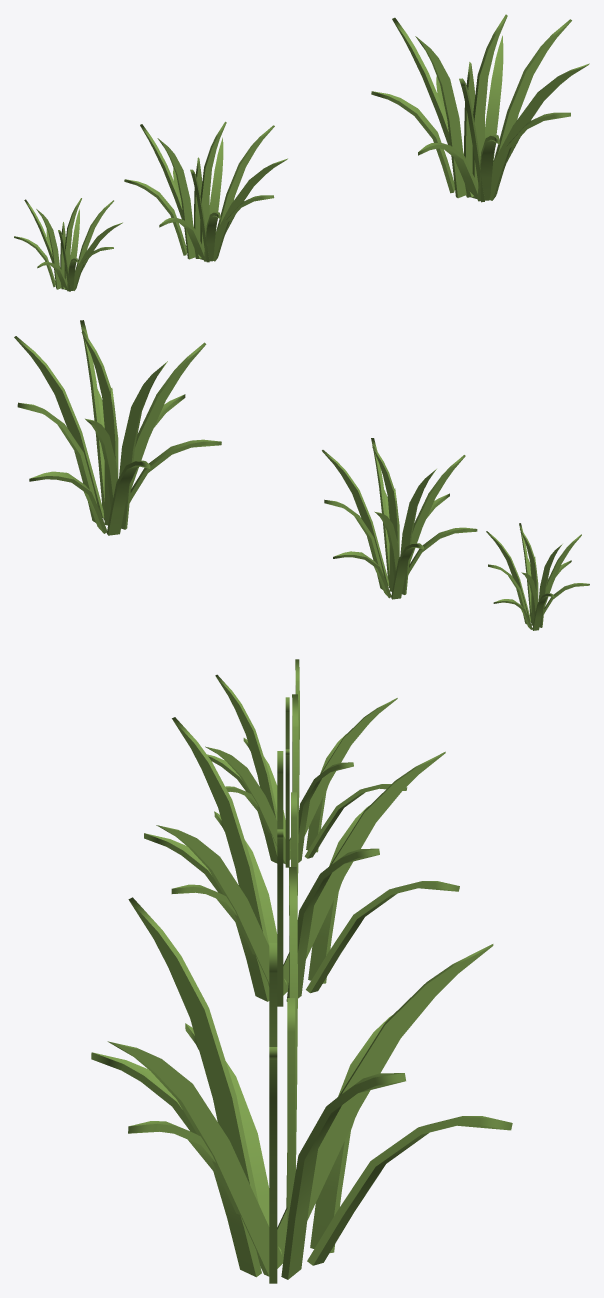
The model's file is grass.fbx.
3 renders of one model, top to bottom at view 1: azimuth 30°, elevation 25°; view 2: azimuth 150°, elevation 25°; view 3: azimuth 270°, elevation 25°, orthographic. The views are drawn at different scales.
Visible parts, largest first — view 1: grass_GEO60 (×3), grass_GEO61 (×3), grass_GEO54 (×2), grass_GEO52 (×2), grass_GEO55 (×2), grass_GEO51 (×2), grass_GEO49 (×2), grass_GEO56 (×2), grass_GEO59 (×2), grass_GEO50 (×2), grass_GEO57 (×2), grass_GEO58 (×2); view 2: grass_GEO54 (×3), grass_GEO60 (×2), grass_GEO57 (×2), grass_GEO49 (×2), grass_GEO52 (×2), grass_GEO51 (×2), grass_GEO58 (×2), grass_GEO55 (×2), grass_GEO59 (×2), grass_GEO53 (×2), grass_GEO61 (×2); view 3: grass_GEO55 (×3), grass_GEO57 (×3), grass_GEO52 (×3), grass_GEO51 (×3), grass_GEO53 (×3), grass_GEO50 (×2), grass_GEO49 (×2), grass_GEO54 (×2), grass_GEO59 (×2), grass_GEO60 (×2), grass_GEO58, grass_GEO56 (+1 smaller).
Part boxes in pixels (box(x1,y1,x2,y2)): grass_GEO60 (×3): box(36, 36, 466, 289); grass_GEO61 (×3): box(64, 14, 507, 283); grass_GEO54 (×2): box(216, 19, 571, 255); grass_GEO52 (×2): box(214, 63, 589, 254); grass_GEO55 (×2): box(140, 17, 473, 258); grass_GEO51 (×2): box(209, 35, 503, 232); grass_GEO49 (×2): box(124, 91, 454, 255); grass_GEO56 (×2): box(204, 135, 499, 261); grass_GEO59 (×2): box(159, 143, 478, 260); grass_GEO50 (×2): box(212, 112, 570, 261); grass_GEO57 (×2): box(190, 78, 484, 262); grass_GEO58 (×2): box(194, 62, 475, 240); grass_GEO54 (×3): box(14, 336, 530, 621); grass_GEO60 (×2): box(119, 361, 436, 594); grass_GEO57 (×2): box(131, 342, 465, 564); grass_GEO49 (×2): box(107, 460, 423, 599); grass_GEO52 (×2): box(80, 320, 389, 587); grass_GEO51 (×2): box(17, 402, 383, 589); grass_GEO58 (×2): box(104, 388, 399, 591); grass_GEO55 (×2): box(85, 418, 399, 578); grass_GEO59 (×2): box(129, 439, 477, 574); grass_GEO53 (×2): box(29, 471, 391, 598); grass_GEO61 (×2): box(81, 331, 399, 555); grass_GEO55 (×3): box(277, 698, 493, 1257); grass_GEO57 (×3): box(128, 674, 277, 1203); grass_GEO52 (×3): box(107, 746, 290, 1276); grass_GEO51 (×3): box(281, 762, 405, 1279); grass_GEO53 (×3): box(304, 784, 512, 1265); grass_GEO50 (×2): box(128, 884, 269, 1277); grass_GEO49 (×2): box(308, 805, 392, 1252); grass_GEO54 (×2): box(269, 829, 283, 1283); grass_GEO59 (×2): box(185, 811, 286, 1254); grass_GEO60 (×2): box(286, 694, 298, 1207); grass_GEO58: box(287, 998, 295, 1225); grass_GEO56: box(91, 1052, 197, 1134).
Size of the model in its own units: 79.27 by 24.68 by 26.72.
